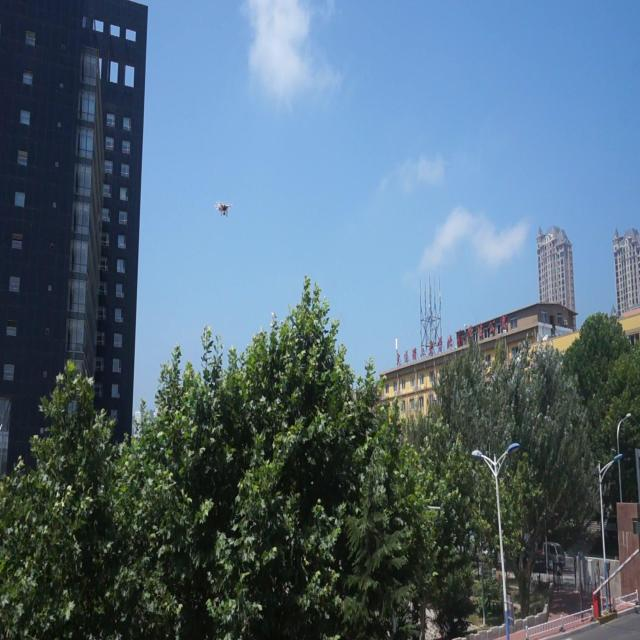drone: (212, 191, 234, 222)
